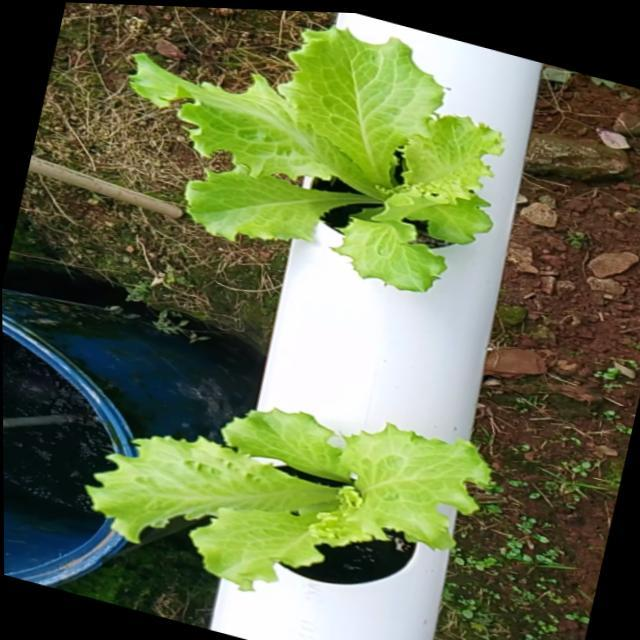Baby: (132, 26, 509, 293), (88, 412, 494, 595)
